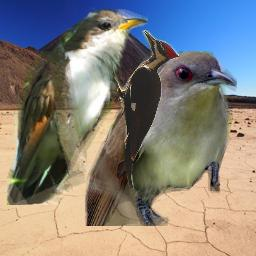Cuckoo: (7, 9, 148, 205), (85, 51, 237, 226)
Woodpecker: (107, 30, 179, 189)
